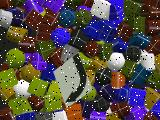Right: (53, 52, 93, 108)
